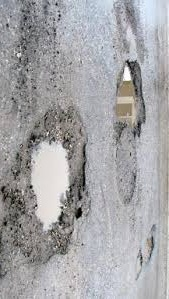pothole: (15, 109, 83, 263), (112, 59, 144, 138), (113, 142, 138, 209), (143, 229, 158, 265), (135, 251, 142, 285)
